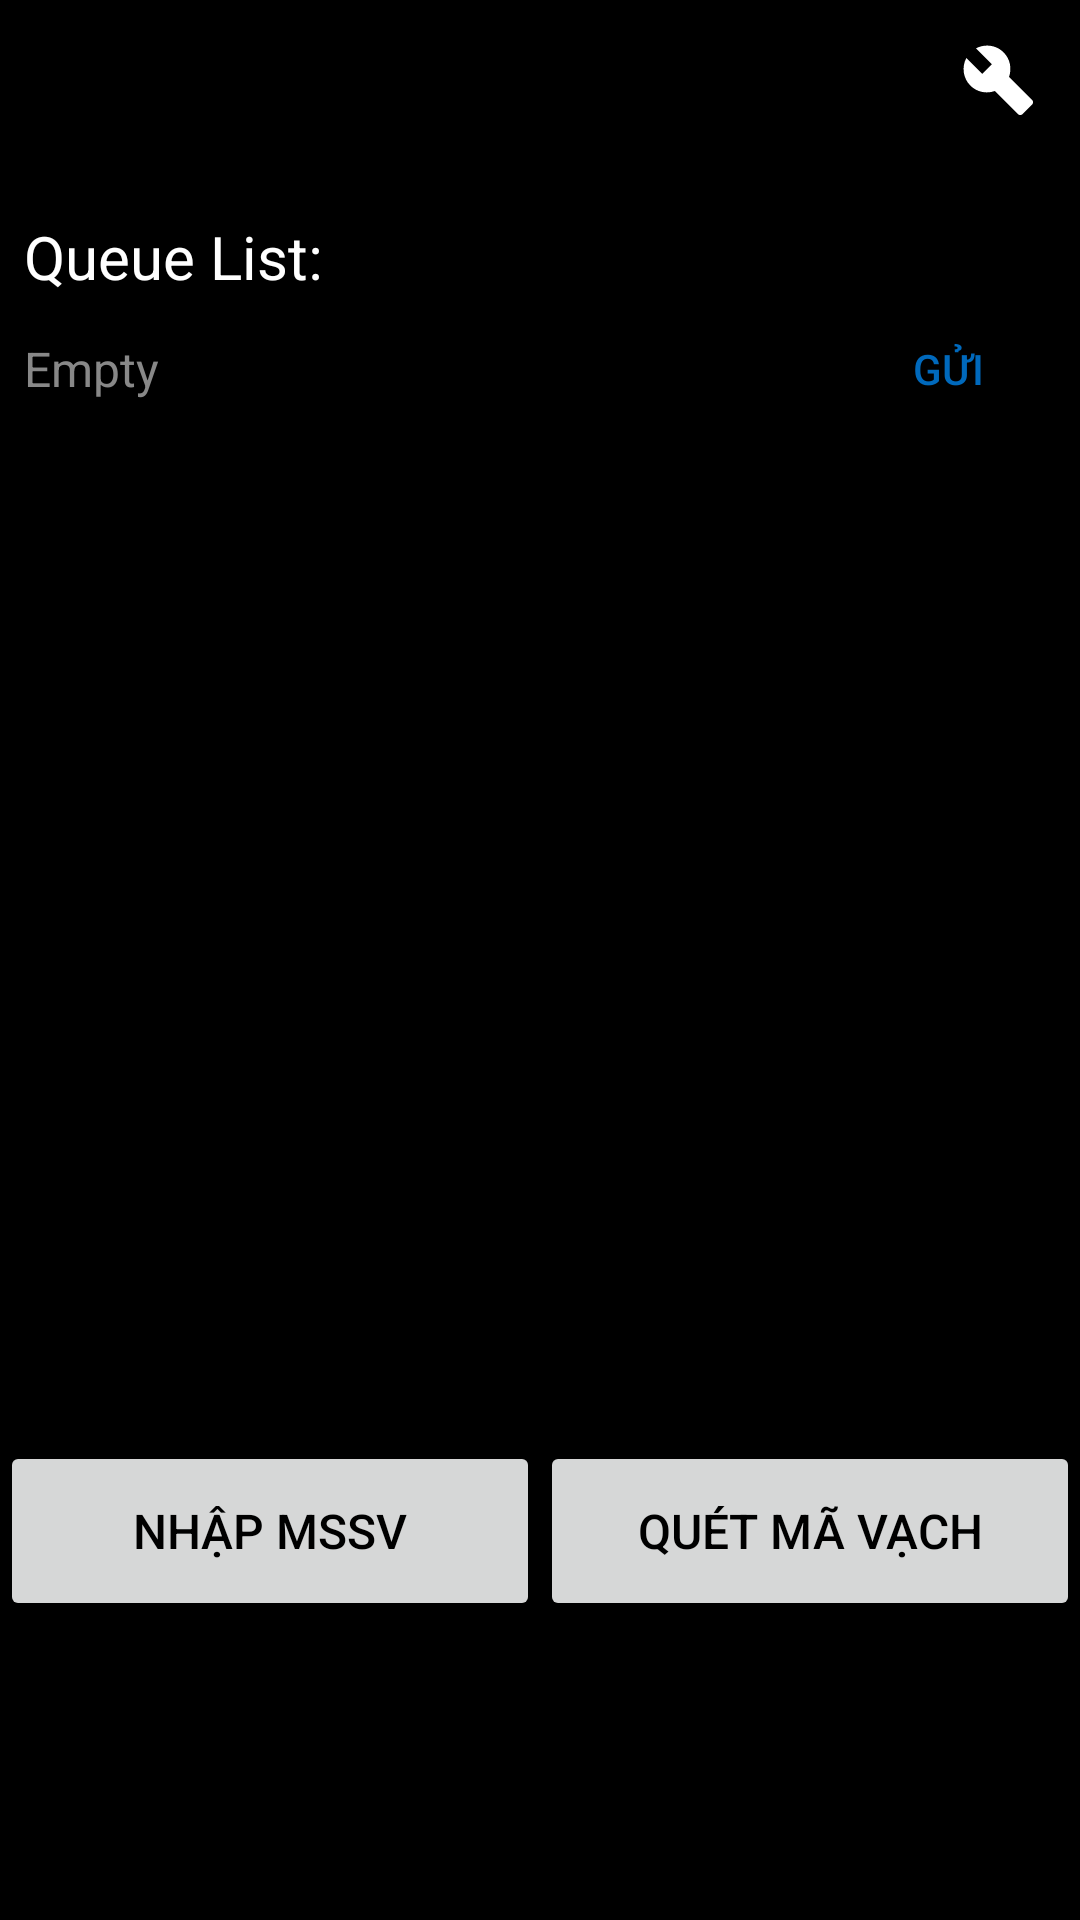

Icon bounding boxes for this 1080x1920 phone screenshot, format (x1, y1, x2, y2):
setting: (963, 45, 1033, 115)
